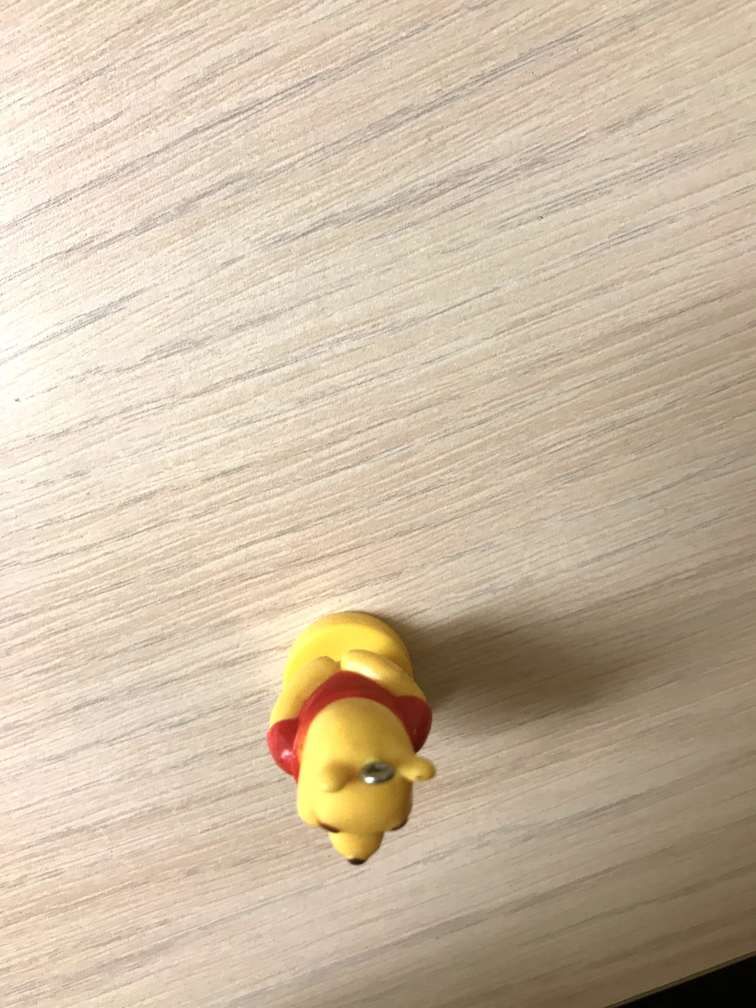Winnie: (285, 716, 432, 865)
